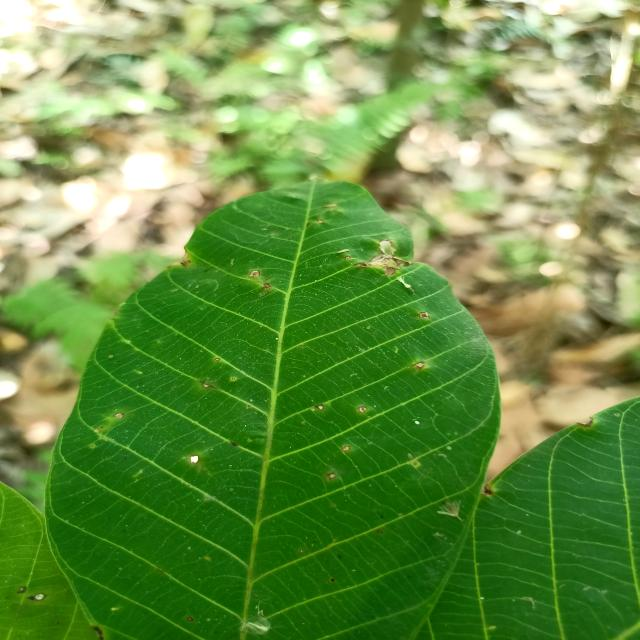Colletotrichum: (190, 454, 200, 464), (249, 270, 261, 278), (34, 593, 46, 600), (358, 406, 368, 413), (415, 361, 425, 368), (419, 312, 430, 318), (18, 585, 26, 593), (115, 412, 124, 418), (317, 404, 324, 410), (343, 446, 350, 452), (329, 473, 335, 478), (187, 617, 194, 621), (345, 256, 351, 260), (214, 358, 220, 361), (232, 378, 235, 380)
